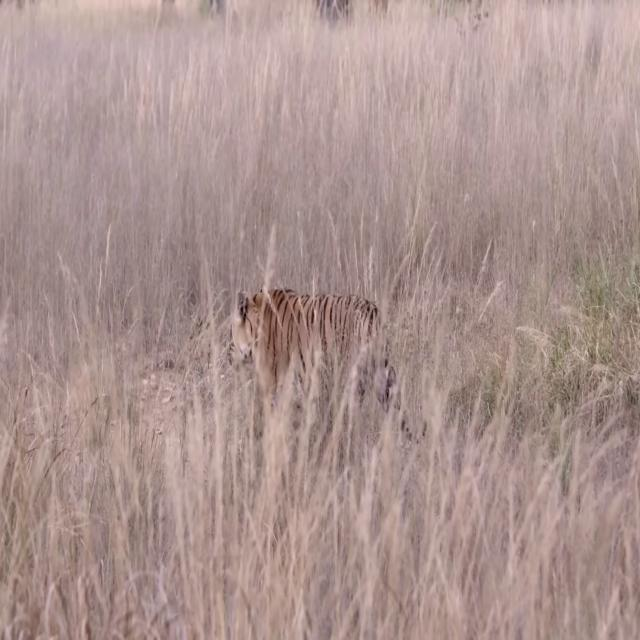tiger: (226, 284, 426, 464)
